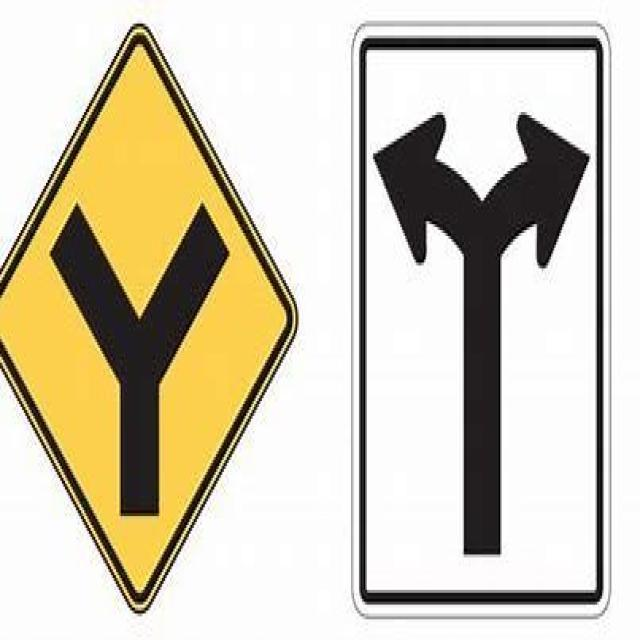y intersection: (12, 45, 275, 586)
